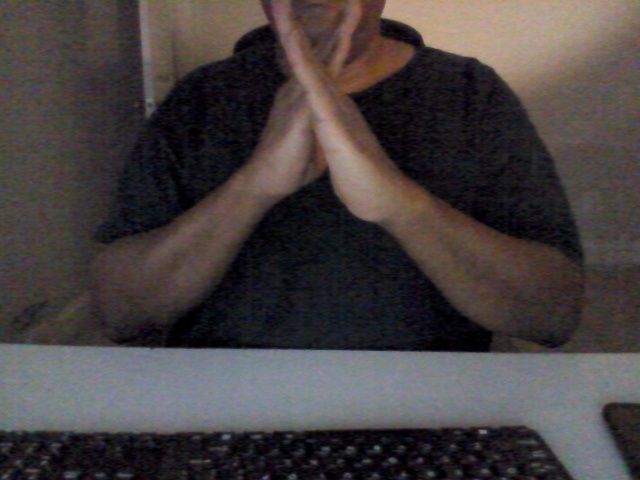quiet: (247, 1, 402, 234)
